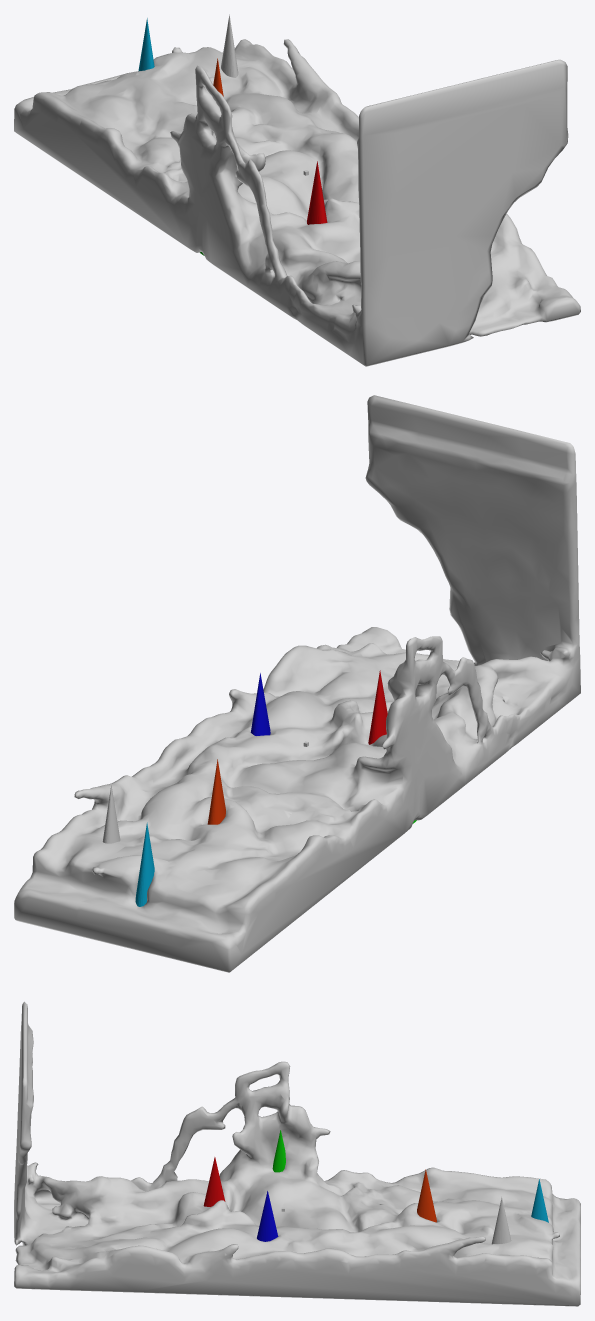
3 views of the same model, one above another, from view 1: azimuth 30°, elevation 25°; view 2: azimuth 150°, elevation 25°; view 3: azimuth 270°, elevation 25° (orthographic). The views are drawn at different scales.
Parts seen in each view (by area): view 1: Liquid_Domain, 円錐.001, 円錐, 円錐.005; view 2: Liquid_Domain, 円錐.005, 円錐.001; view 3: Liquid_Domain, 円錐.002, 円錐.004, 円錐.001, 円錐, 円錐.005.
Part boxes in pixels (<box>): Liquid_Domain: <box>14,39,580,366</box>; 円錐.001: <box>307,161,327,224</box>; 円錐: <box>221,14,238,77</box>; 円錐.005: <box>138,18,154,71</box>; Liquid_Domain: <box>14,395,580,972</box>; 円錐.005: <box>135,822,154,906</box>; 円錐.001: <box>368,670,387,744</box>; Liquid_Domain: <box>14,1001,580,1306</box>; 円錐.002: <box>257,1191,278,1241</box>; 円錐.004: <box>417,1169,436,1222</box>; 円錐.001: <box>203,1157,225,1206</box>; 円錐: <box>491,1197,511,1244</box>; 円錐.005: <box>531,1179,548,1222</box>.
Bounding box in the file's own units: 129 × 158 × 361.
